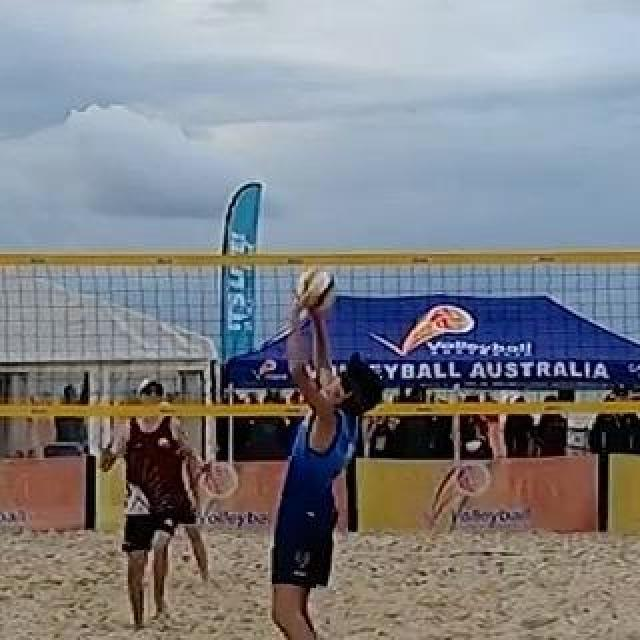volleyball: (294, 266, 340, 310)
